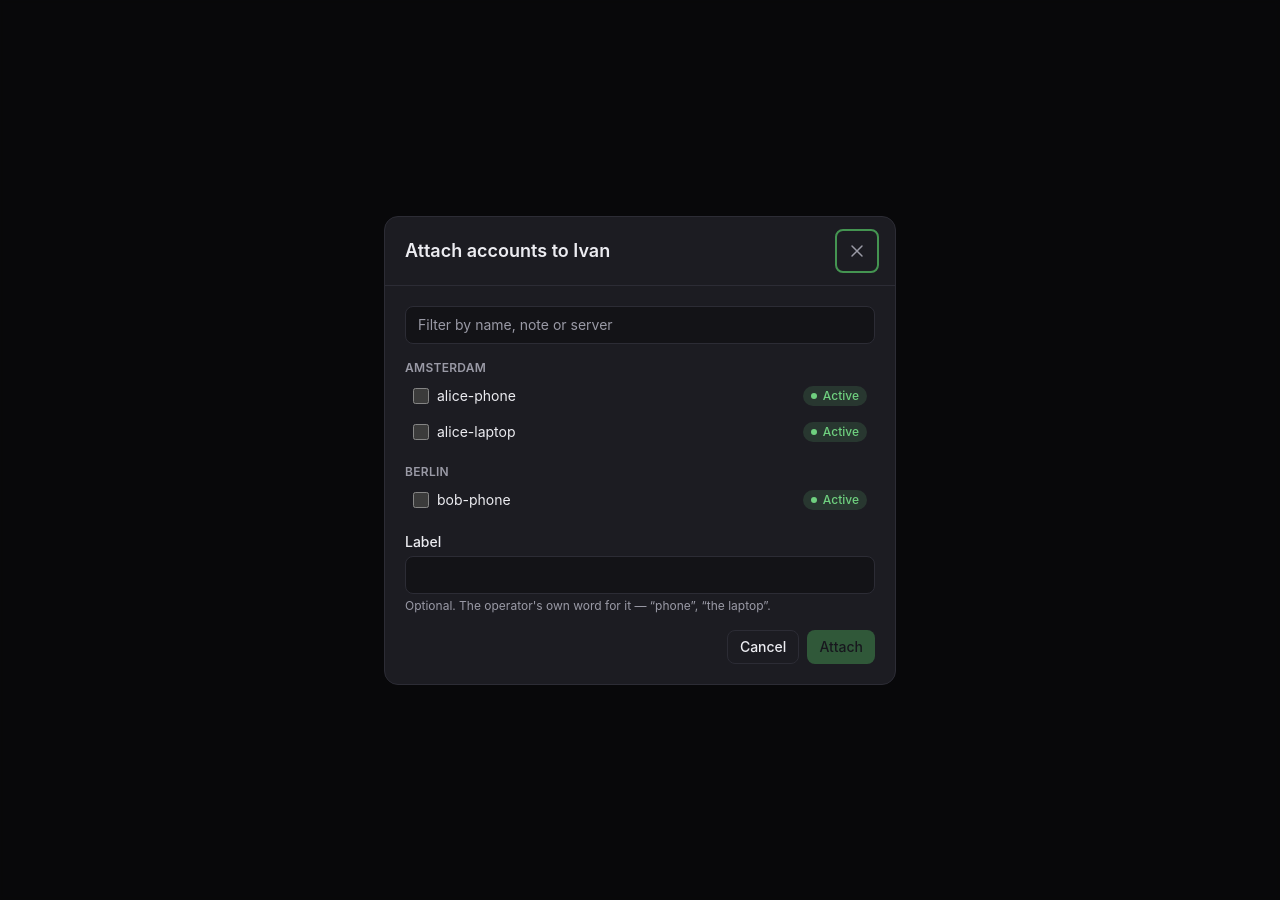
Test: AttachEntryDialog › filters on the server label as well as the account name
Expected: the text "alice-phone" is shown, [437, 386, 516, 404]
Type "berlin" into the search field named "Filter accounts".
click(640, 324); type("berlin")  # box [405, 306, 875, 344]
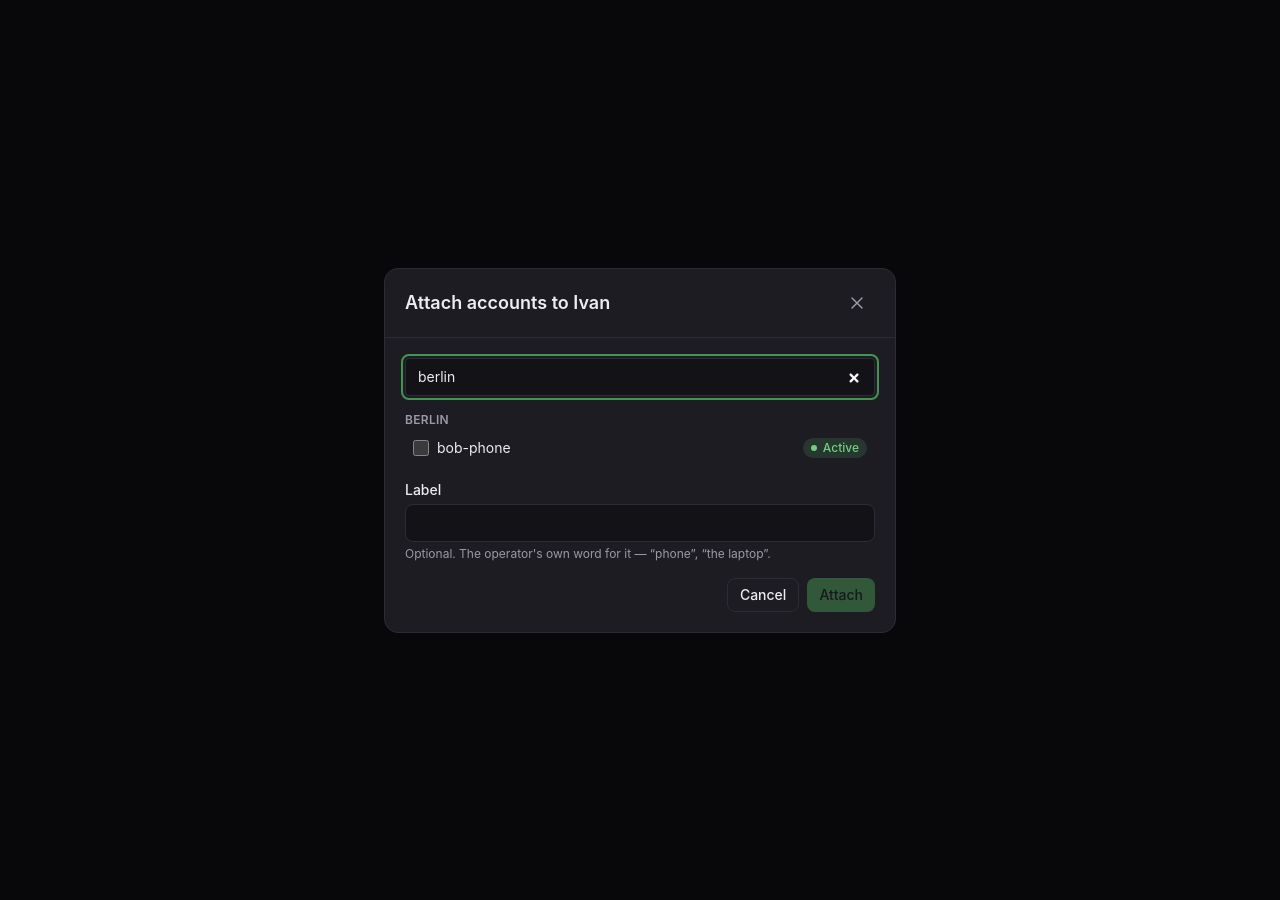
Expected: the text "bob-phone" is shown, [437, 438, 511, 456]
Expected: the text "alice-phone" is gone
